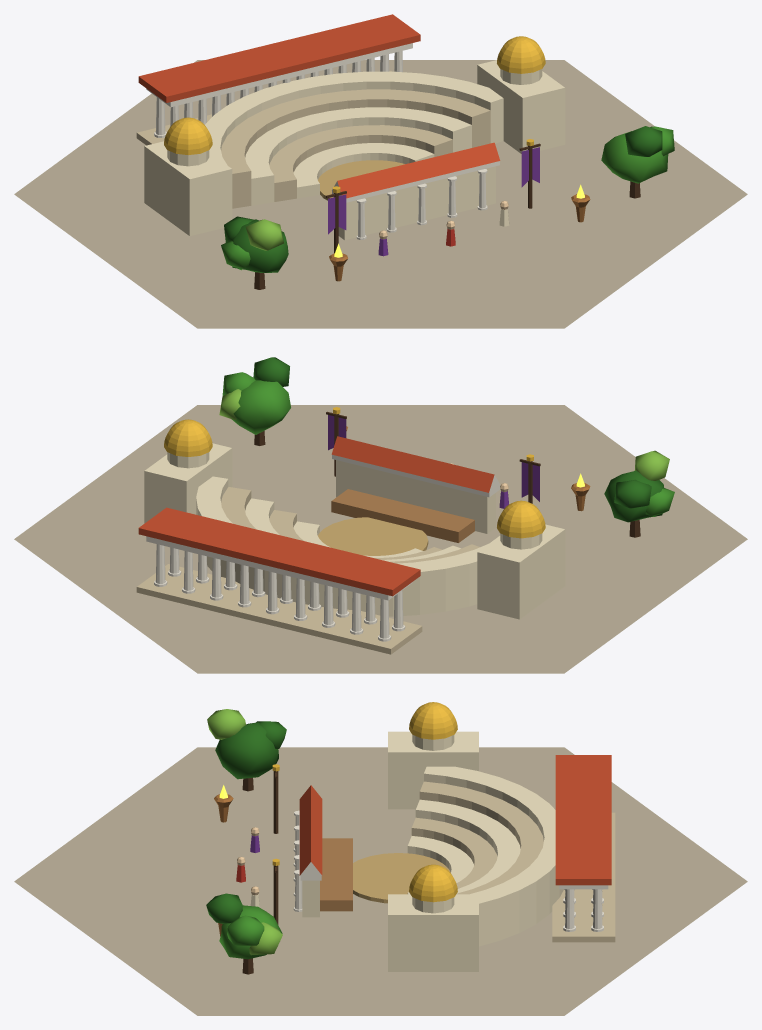
The model's file is district_theater_3.fbx.
The picture shows the model from 3 angles, top to bottom: view 1: azimuth 30°, elevation 25°; view 2: azimuth 150°, elevation 25°; view 3: azimuth 270°, elevation 25°; orthographic projection.
Parts seen in each view (by area): view 1: district_theater_3; view 2: district_theater_3; view 3: district_theater_3.
Part boxes in pixels (left/top/right/bottom): district_theater_3: left=14, top=14, right=747, bottom=328; district_theater_3: left=14, top=357, right=747, bottom=673; district_theater_3: left=14, top=702, right=747, bottom=1015.
Bounding box in the file's own units: 182 × 30.4 × 210.
